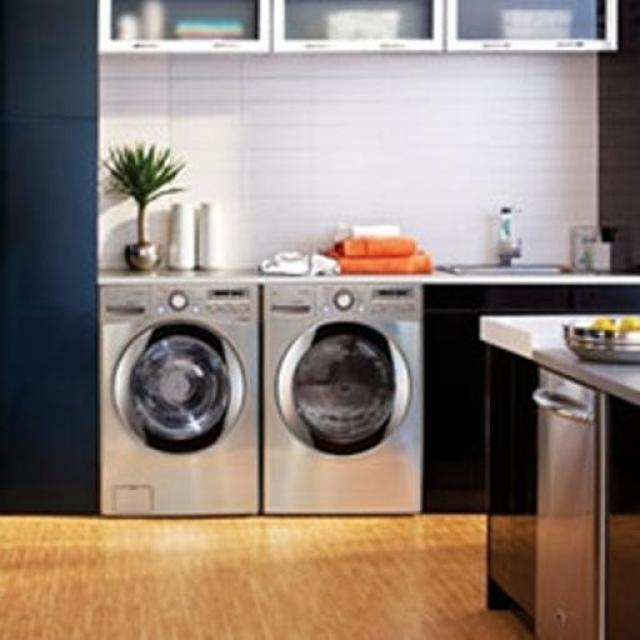E-waste: (96, 255, 440, 534)
